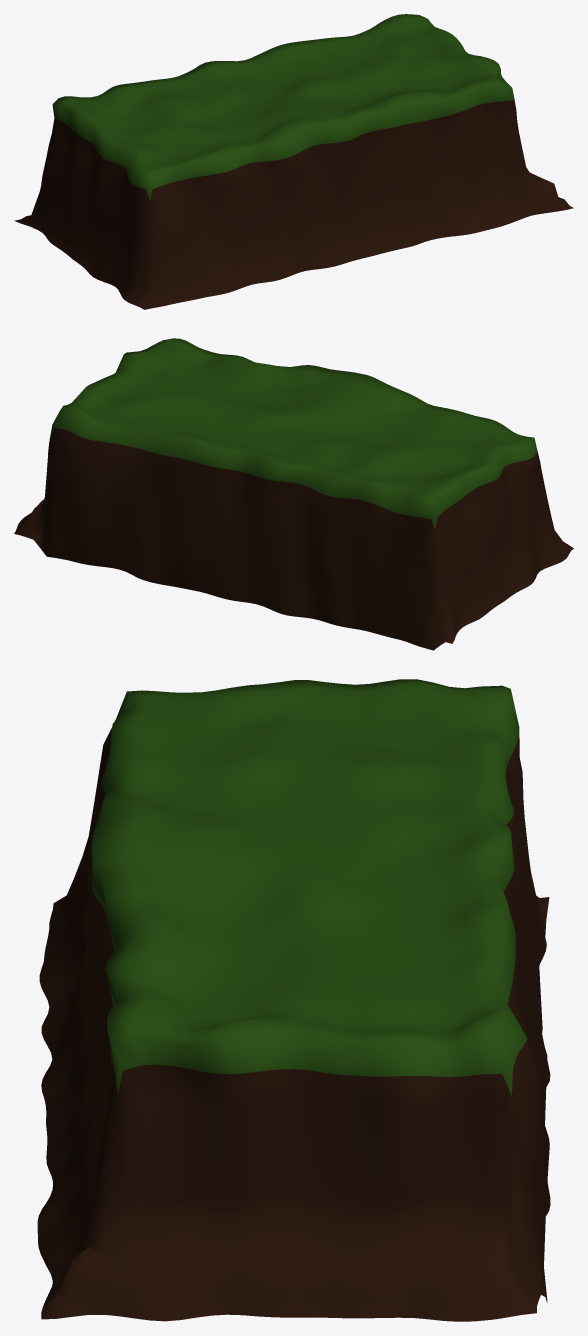
Rendered from Mountain_Mapa06_03.FBX.
3 renders of one model, top to bottom at view 1: azimuth 30°, elevation 25°; view 2: azimuth 150°, elevation 25°; view 3: azimuth 270°, elevation 25°, orthographic. The views are drawn at different scales.
Parts seen in each view (by area): view 1: Plane002; view 2: Plane002; view 3: Plane002.
Part boxes in pixels (<box>): Plane002: <box>14,14,573,309</box>; Plane002: <box>14,338,573,650</box>; Plane002: <box>37,679,550,1321</box>.
Bounding box in the file's own units: 569 × 176 × 290.
